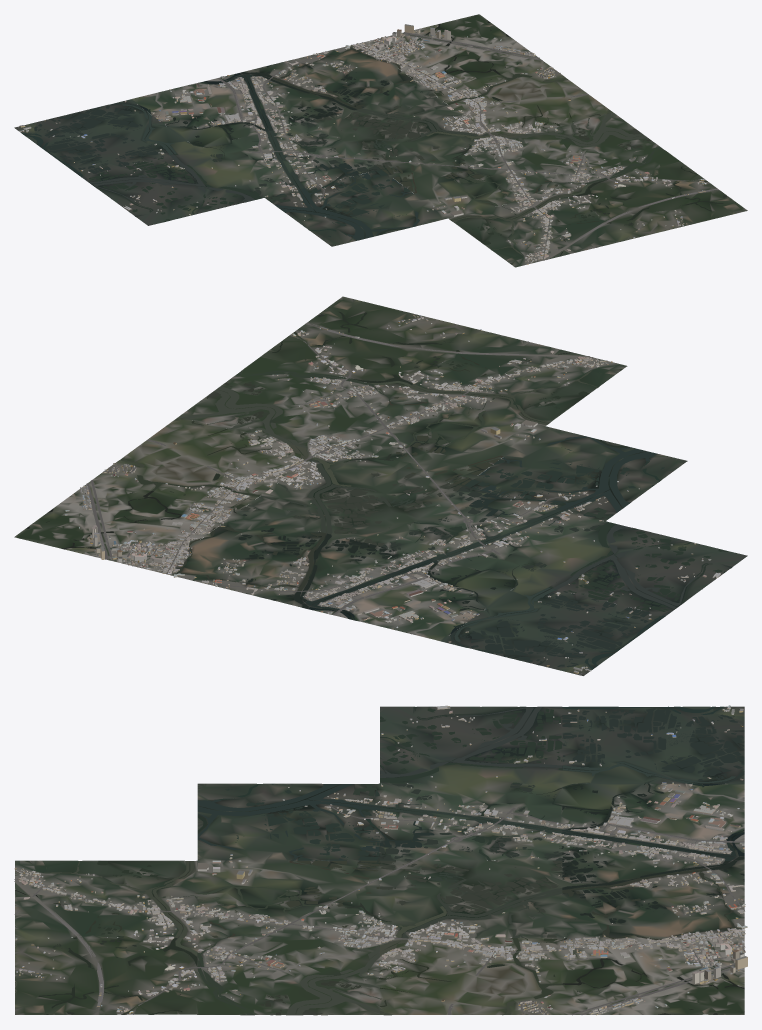
3 renders of one model, top to bottom at view 1: azimuth 30°, elevation 25°; view 2: azimuth 150°, elevation 25°; view 3: azimuth 270°, elevation 25°, orthographic. The views are drawn at different scales.
Parts seen in each view (by area): view 1: ground, water, buildings, roads; view 2: ground, water, buildings, roads; view 3: ground, water, buildings, roads.
Part boxes in pixels (<box>): ground: <box>14,14,747,267</box>; water: <box>22,15,735,264</box>; buildings: <box>19,24,706,264</box>; roads: <box>18,32,718,260</box>; ground: <box>14,296,747,675</box>; water: <box>19,307,732,669</box>; buildings: <box>65,315,720,673</box>; roads: <box>86,322,593,674</box>; ground: <box>15,706,744,1015</box>; water: <box>15,706,744,1014</box>; buildings: <box>14,705,747,1015</box>; roads: <box>14,708,744,1015</box>.
Size of the model in its own units: 5616 by 91.85 by 5636.
